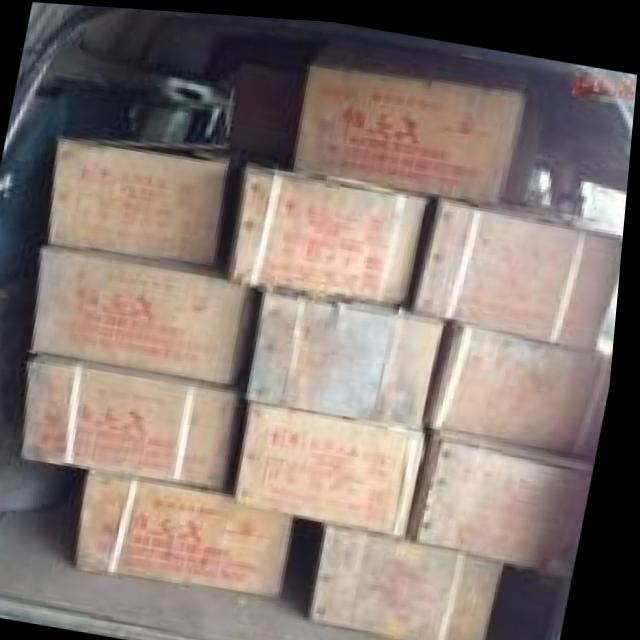box: (295, 60, 530, 197), (415, 192, 627, 340), (37, 244, 257, 381), (35, 352, 252, 489), (252, 284, 449, 425), (233, 161, 433, 299), (85, 469, 305, 592), (420, 420, 601, 569), (245, 400, 431, 534), (320, 516, 515, 640), (53, 136, 244, 259), (437, 314, 610, 446)
